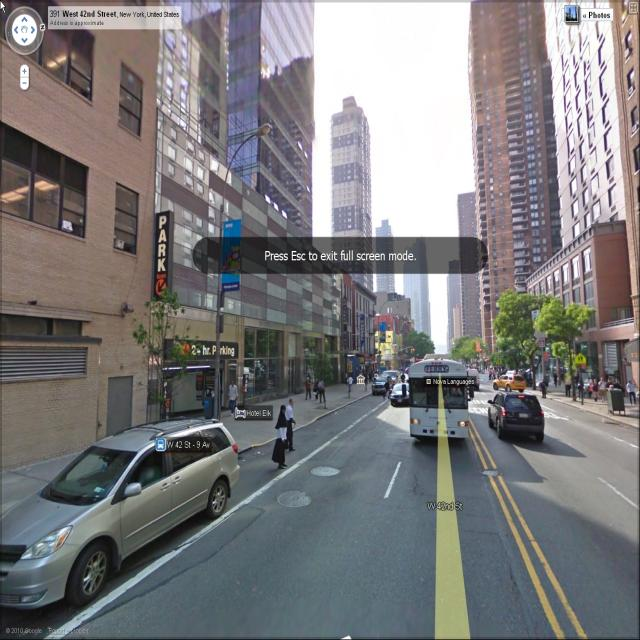b_1: (3, 1, 154, 403), (157, 128, 340, 357), (155, 9, 310, 231), (467, 3, 560, 292), (552, 7, 640, 268), (327, 100, 372, 276), (450, 186, 483, 342), (401, 238, 435, 341), (370, 219, 400, 303), (346, 278, 375, 360), (442, 257, 462, 342)
b_2: (158, 132, 338, 381), (486, 214, 638, 376)
